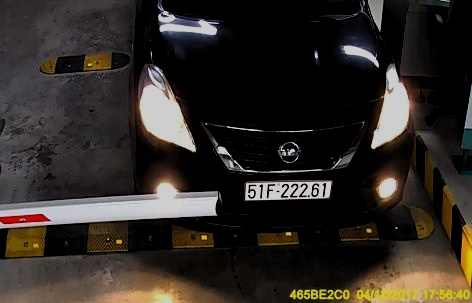plate: (244, 178, 330, 202)
